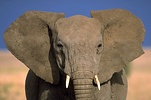elephant: (1, 8, 145, 100)
